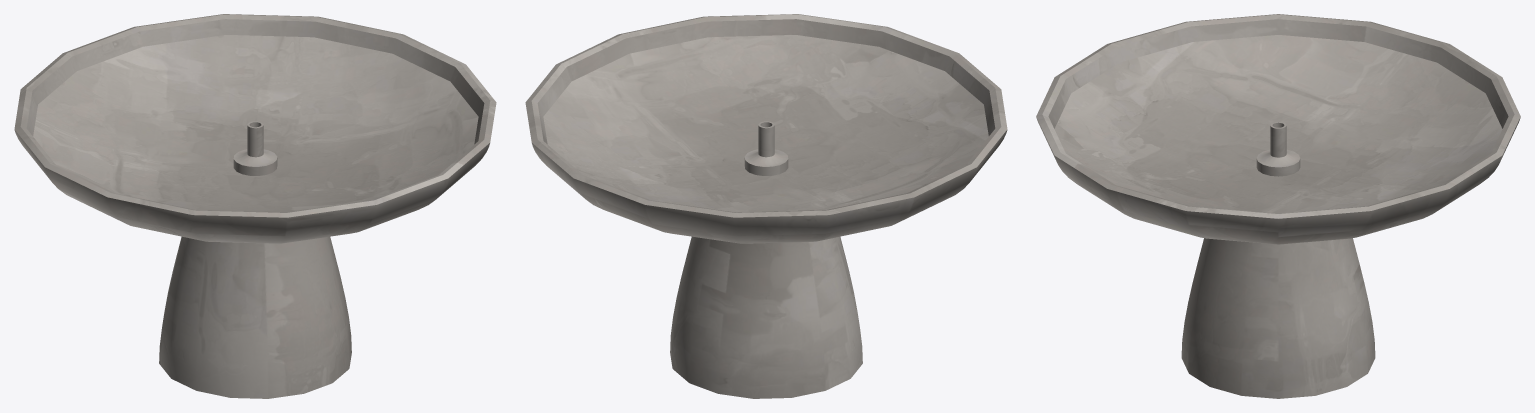
File: Small fountain.fbx
3 renders of one model, left to right at view 1: azimuth 30°, elevation 25°; view 2: azimuth 150°, elevation 25°; view 3: azimuth 270°, elevation 25°, orthographic.
Visible parts, largest first — view 1: Small fountain_Baked; view 2: Small fountain_Baked; view 3: Small fountain_Baked.
Part boxes in pixels (x1,y1,x2,y2): Small fountain_Baked: [14, 14, 496, 398]; Small fountain_Baked: [525, 14, 1007, 398]; Small fountain_Baked: [1036, 14, 1520, 398].
Bounding box in the file's own units: 149 × 82.46 × 149.
Materials: 1 (1 with a texture image).
